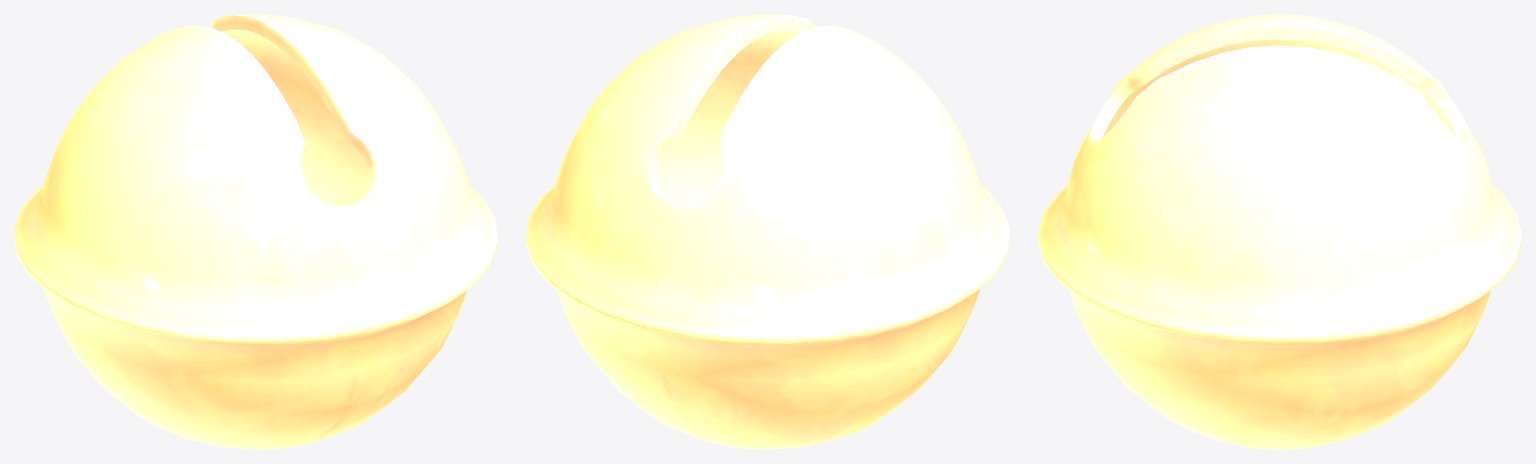
File: Collectabell.fbx
3 views of the same model, side by side, from view 1: azimuth 30°, elevation 25°; view 2: azimuth 150°, elevation 25°; view 3: azimuth 270°, elevation 25° (orthographic).
Parts seen in each view (by area): view 1: CollectabellB_CR_SM.mo; view 2: CollectabellB_CR_SM.mo; view 3: CollectabellB_CR_SM.mo.
Part boxes in pixels (x1,y1,x2,y2): CollectabellB_CR_SM.mo: (14,14,497,449); CollectabellB_CR_SM.mo: (526,14,1009,449); CollectabellB_CR_SM.mo: (1038,14,1521,449).
Bounding box in the file's own units: 4.2 × 3.72 × 4.2.
